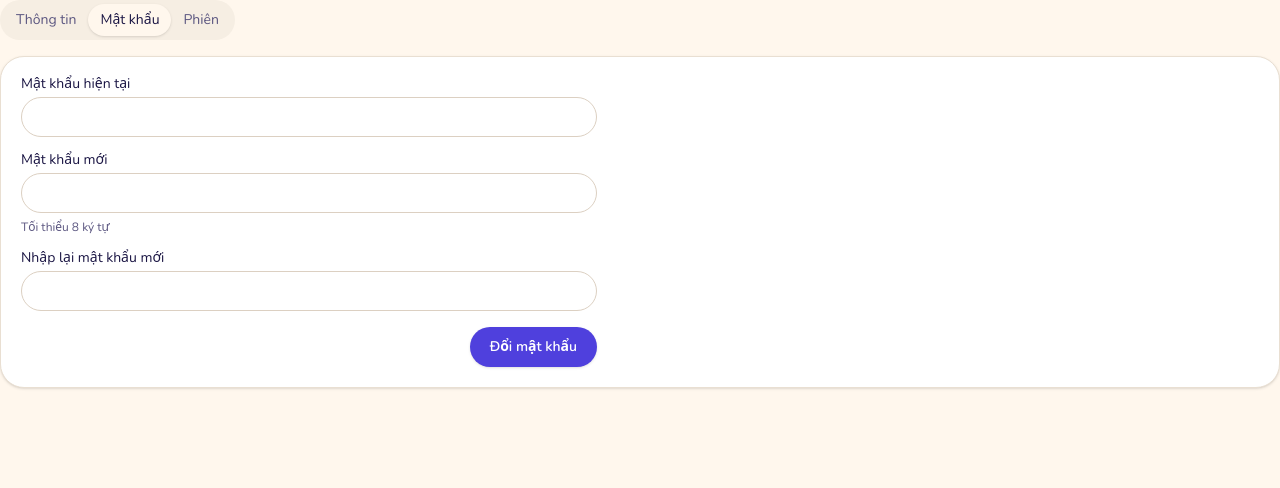
Test: ProfilePage — mật khẩu › mật khẩu hiện tại sai (2106) → thông điệp + Mã tra cứu
Type "sai-roi-1" into the password field with test id "pw-current" at (309, 117), box [21,97,597,137]
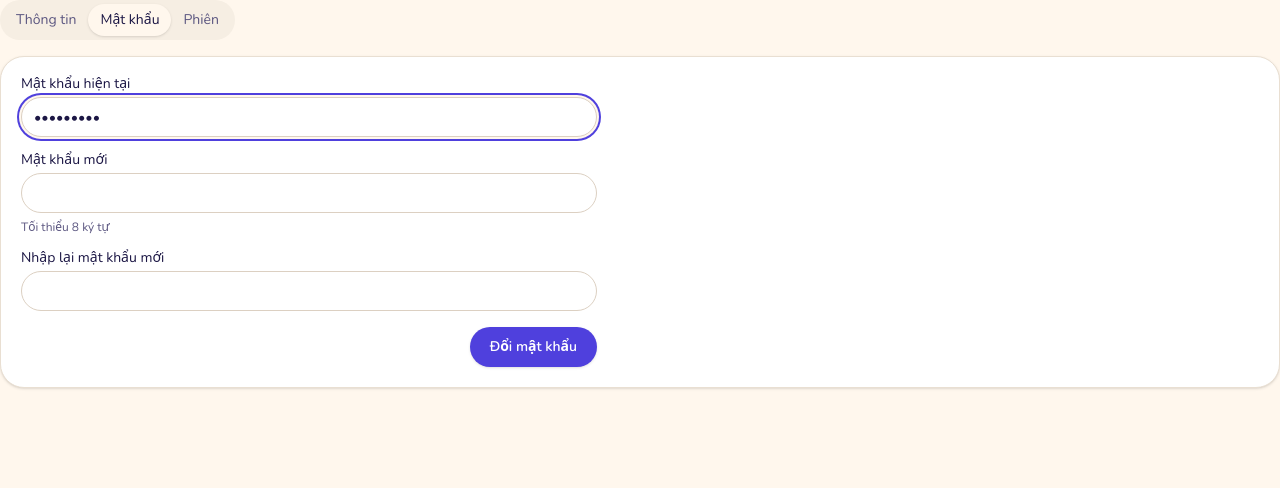
Type "new-pass-12" into the password field with test id "pw-new" at (309, 193), box [21,173,597,213]
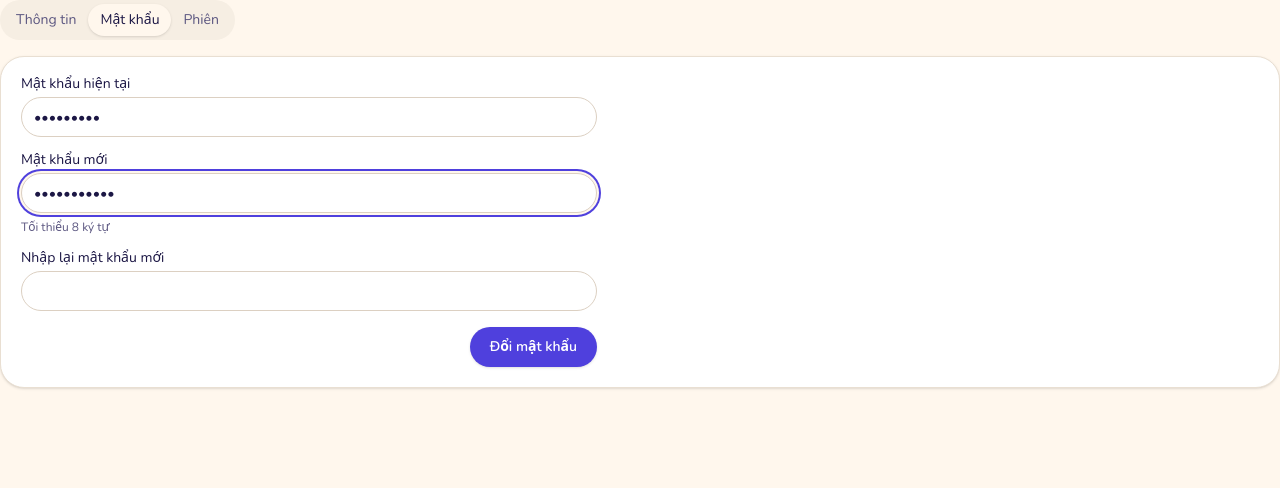
Type "new-pass-12" into the password field with test id "pw-confirm" at (309, 291), box [21,271,597,311]
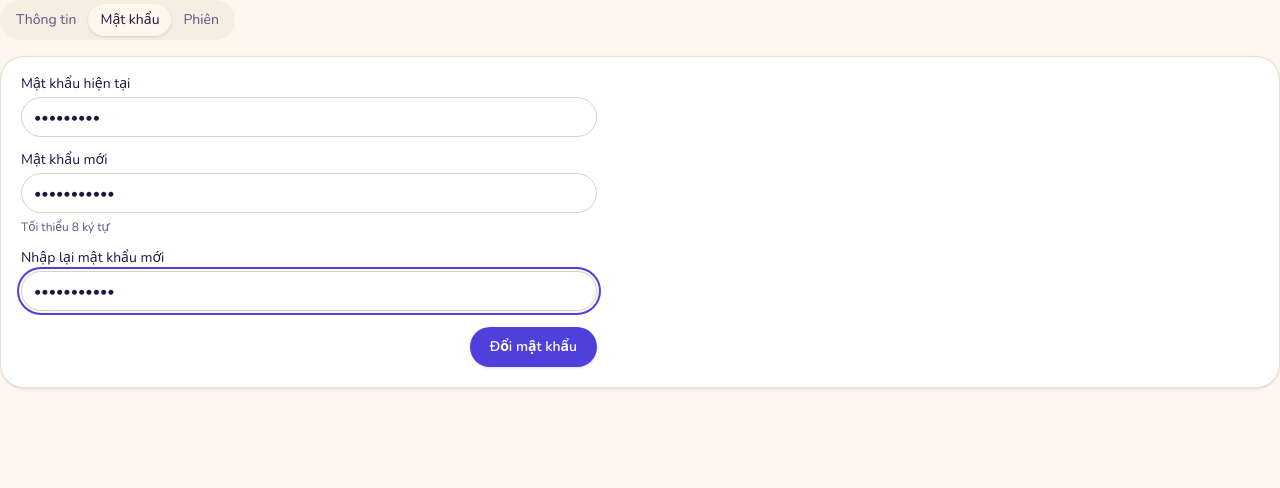
Click the button with test id "change-password" at (533, 347), box [470,327,597,367]
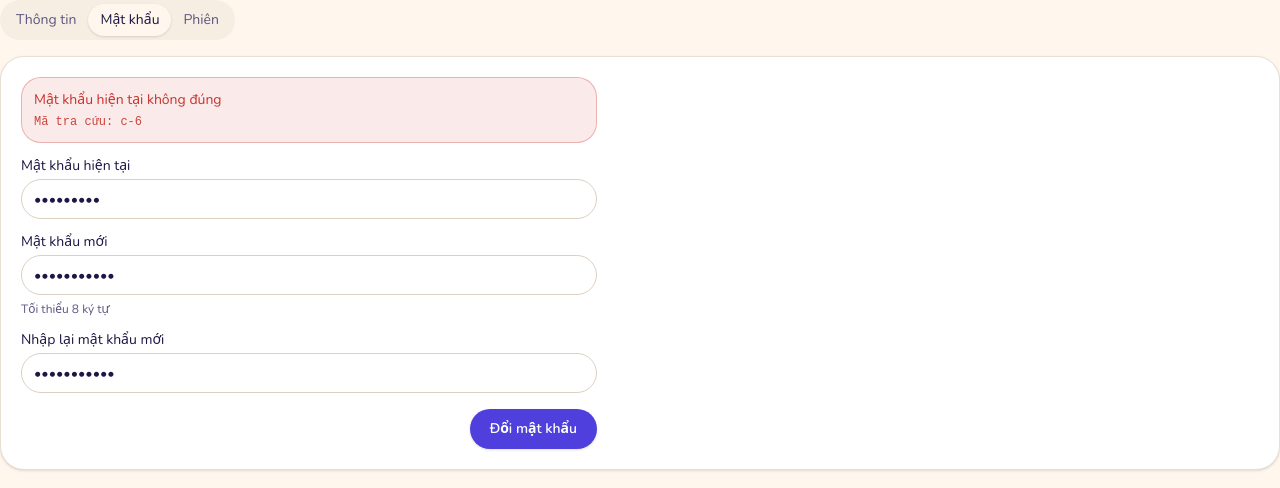
Expected: the message shows "Mật khẩu hiện tại không đúng", [34,90,222,109]
Expected: the text with test id "error-cid" reads "Mã tra cứu: c-6", [34,115,142,129]
